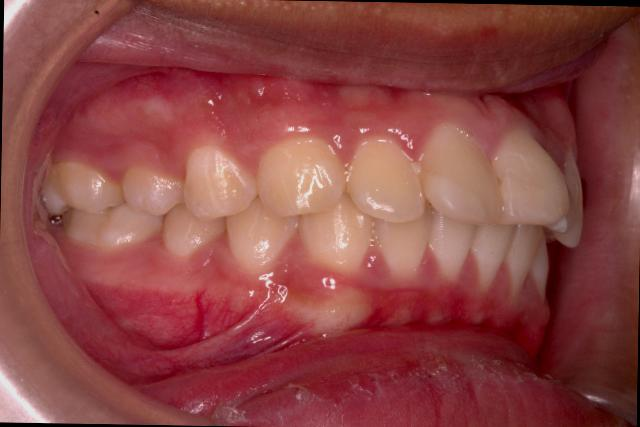canine class I: (221, 135, 379, 276)
molar class III 1/4: (34, 148, 166, 254)
